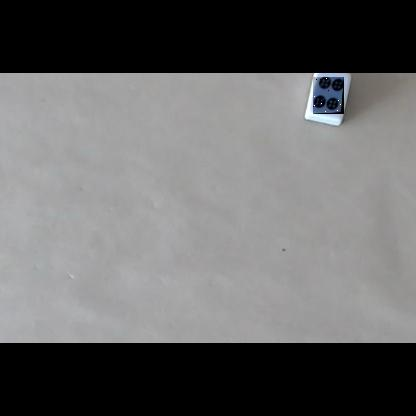4p: (313, 77, 344, 114)
